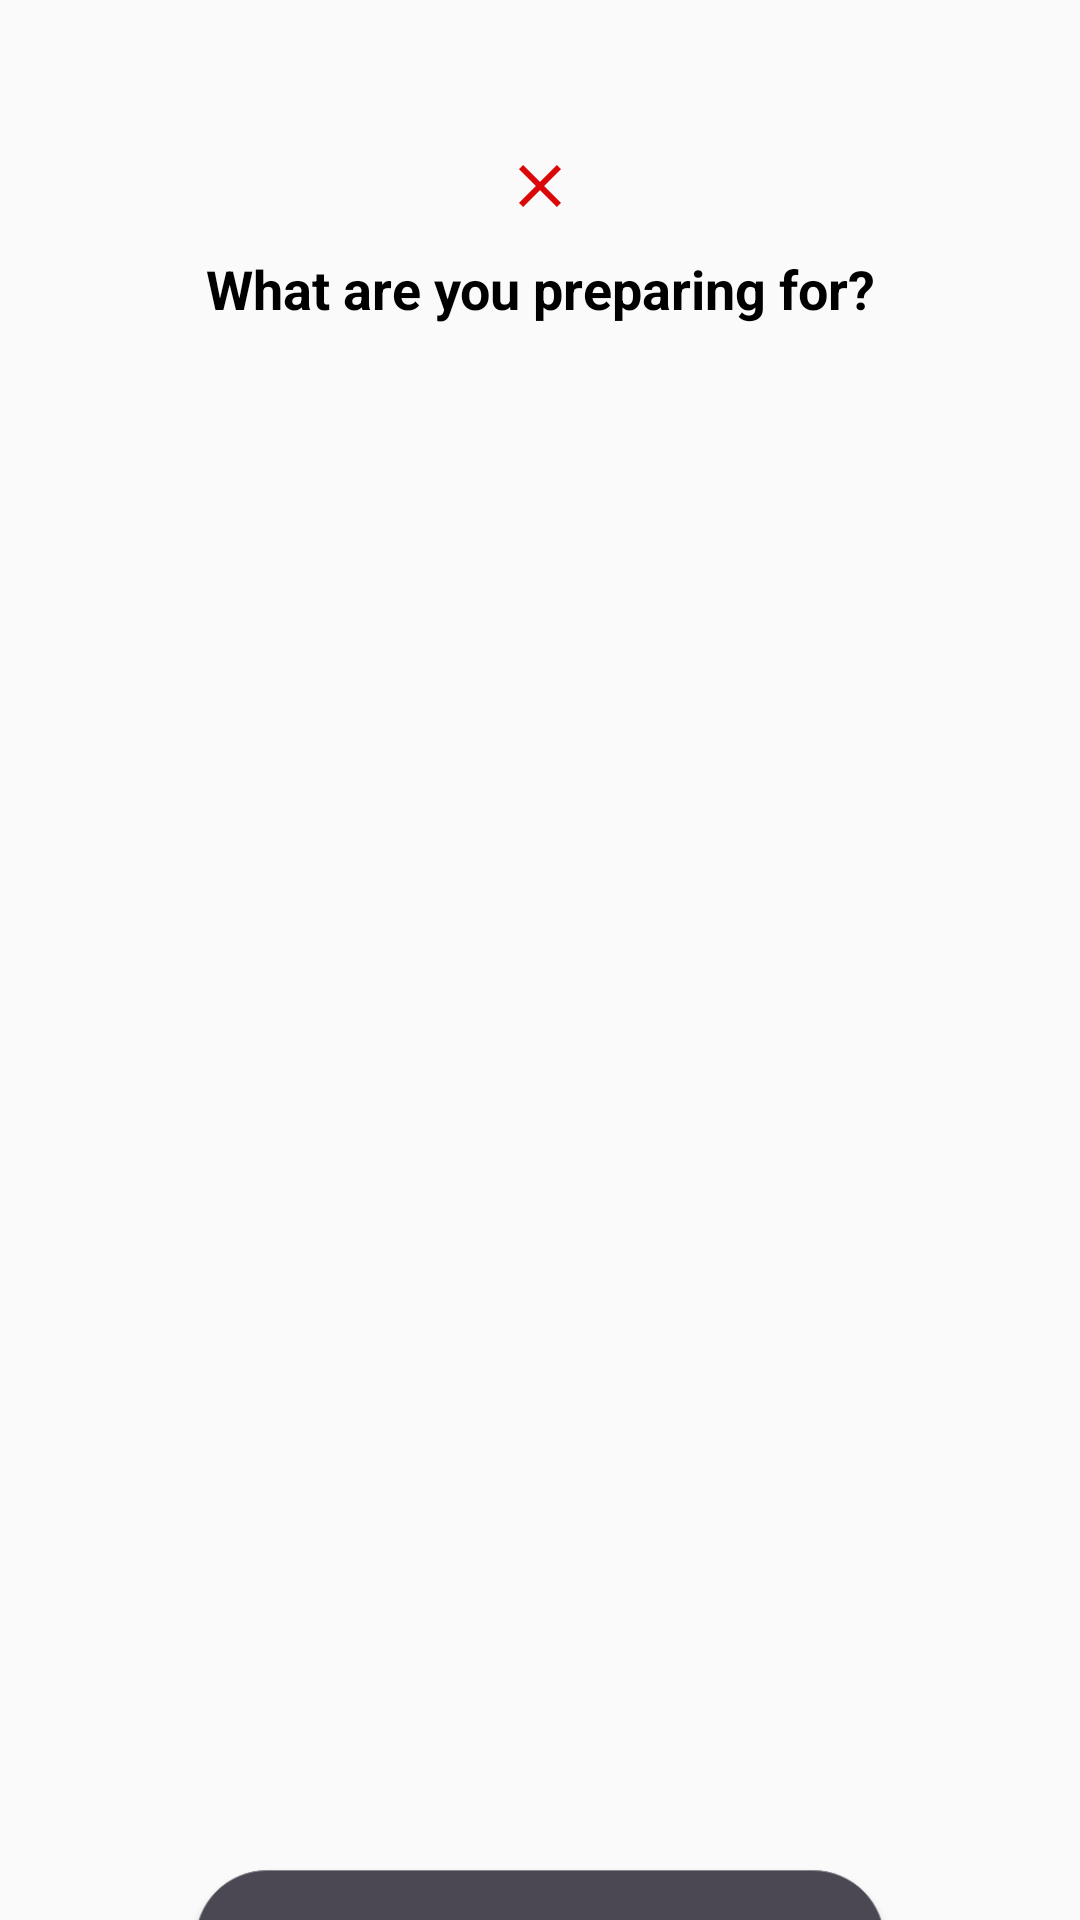

Icons on this 1080 × 1920 Android screen, each with its box as (x1, y1, x2, y2):
close: (519, 165, 561, 207)
